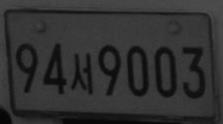0: (153, 45, 177, 99), (126, 44, 149, 97)
3: (181, 46, 207, 99)
4: (42, 42, 67, 95)
9: (13, 41, 39, 94), (97, 43, 122, 96)
서: (70, 51, 94, 96)
